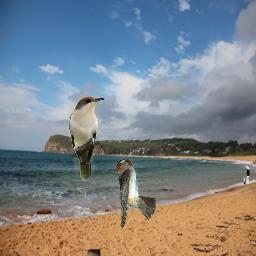Cuckoo: (69, 96, 105, 181)
Swallow: (116, 158, 156, 230)
